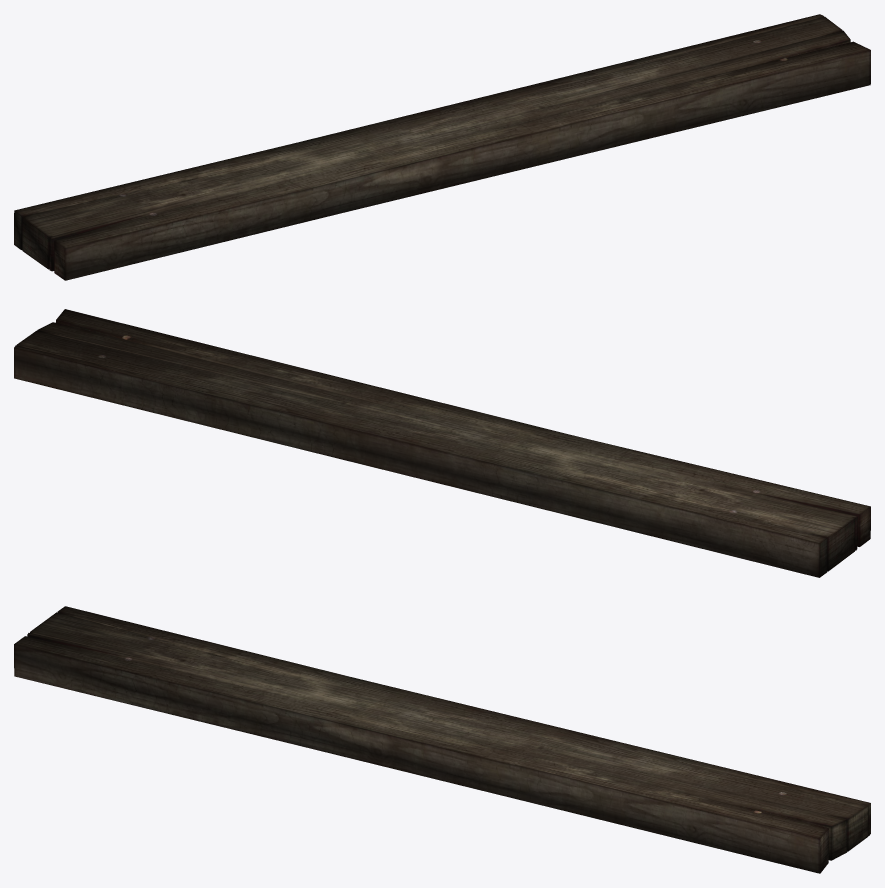
The model's file is plank_2.gltf.
3 views of the same model, one above another, from view 1: azimuth 30°, elevation 25°; view 2: azimuth 150°, elevation 25°; view 3: azimuth 330°, elevation 25° (orthographic).
Parts seen in each view (by area): view 1: defaultMaterial.002; view 2: defaultMaterial.002; view 3: defaultMaterial.002.
Boxes of the visible parts, <box> form: defaultMaterial.002: <box>14,14,870,280</box>; defaultMaterial.002: <box>14,309,870,577</box>; defaultMaterial.002: <box>14,606,870,873</box>.
Size of the model in its own units: 200 by 8.38 by 22.21.
Materials: 1 (1 with a texture image).
